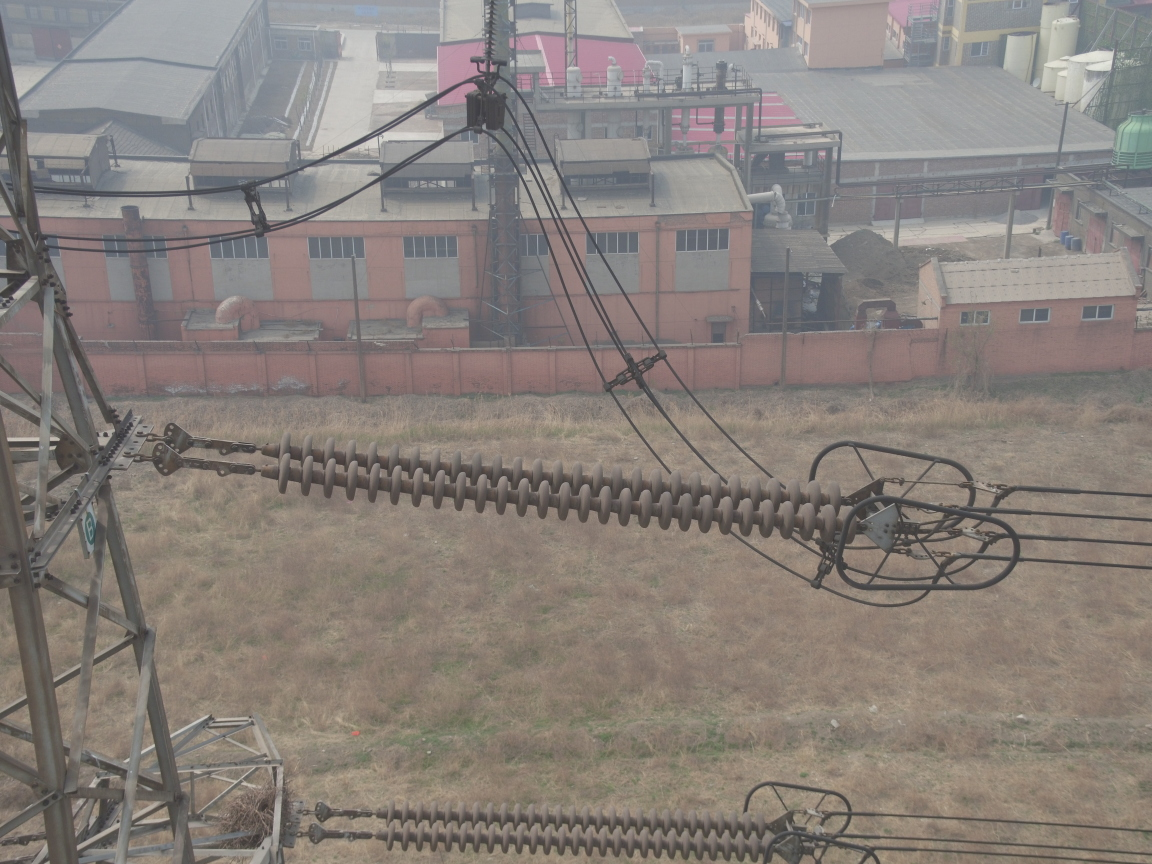insulator: (217, 426, 874, 545), (345, 794, 784, 864)
